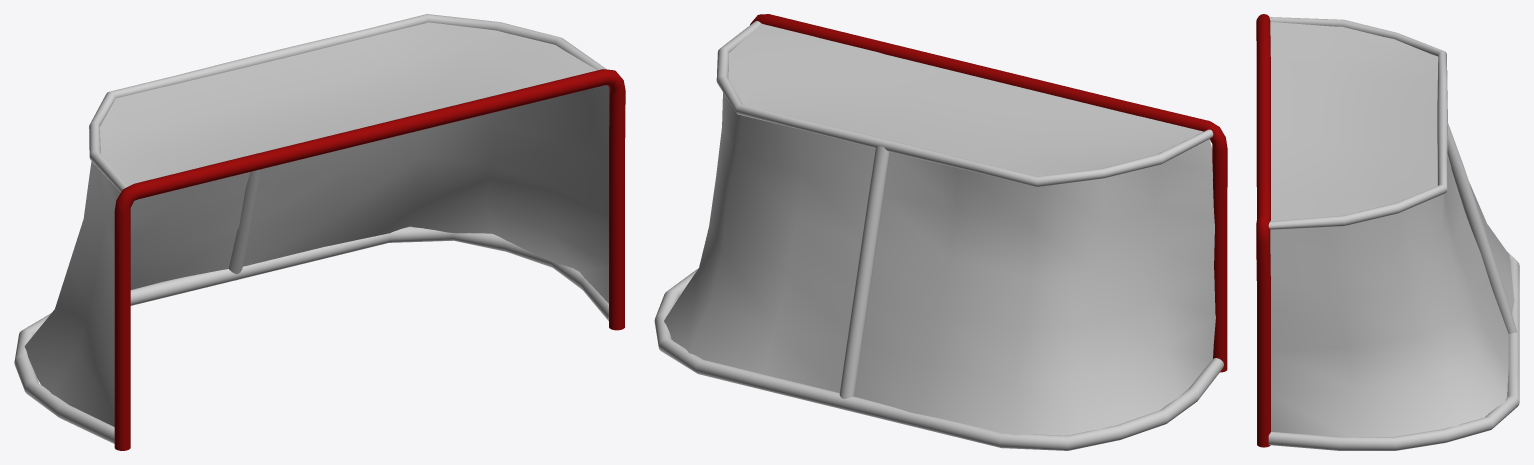
File: qiumenchangshi.FBX
3 renders of one model, left to right at view 1: azimuth 30°, elevation 25°; view 2: azimuth 150°, elevation 25°; view 3: azimuth 270°, elevation 25°, orthographic. The views are drawn at different scales.
Visible parts, largest first — view 1: Plane003, Cylinder035; view 2: Plane003, Cylinder035; view 3: Plane003, Cylinder035.
Boxes of the visible parts, bbox=[...] form: Plane003: bbox=[14, 14, 609, 443]; Cylinder035: bbox=[114, 69, 625, 450]; Plane003: bbox=[654, 21, 1223, 450]; Cylinder035: bbox=[750, 14, 1227, 372]; Plane003: bbox=[1268, 17, 1519, 450]; Cylinder035: bbox=[1256, 14, 1270, 447].
Size of the model in its own units: 120 by 55.64 by 58.94.
